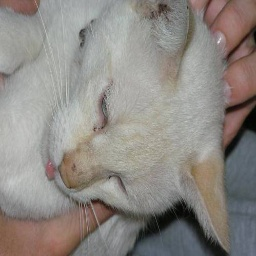cat: (0, 0, 227, 254)
